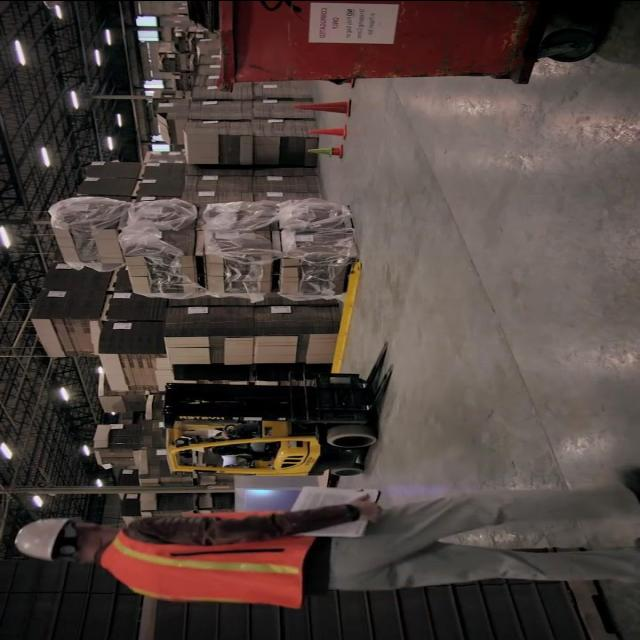helmet: (13, 508, 65, 564)
jacket: (96, 504, 326, 616)
